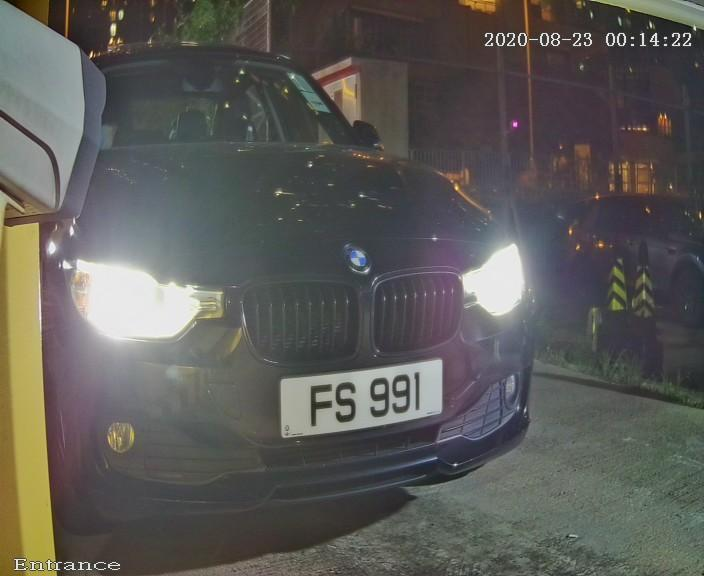Car: (4, 1, 573, 556)
License Plate: (261, 345, 460, 453)
